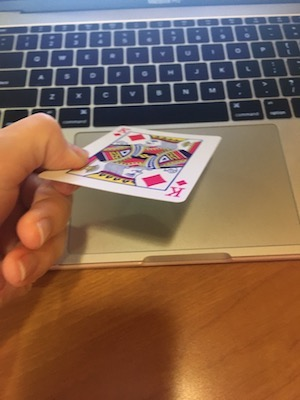KingOfDiamonds: (38, 116, 228, 208)
